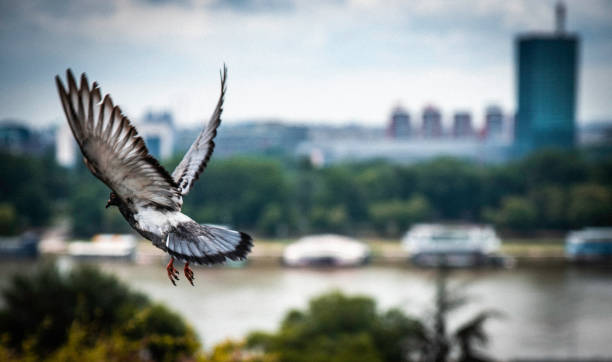Bird: (49, 58, 256, 293)
